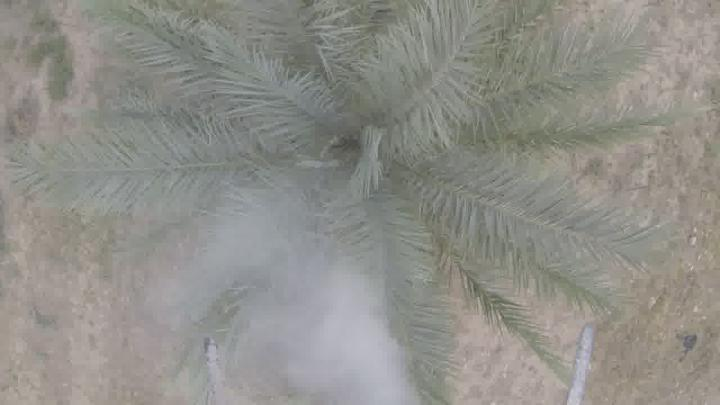Date-Palm-Crown: (201, 12, 509, 306)
